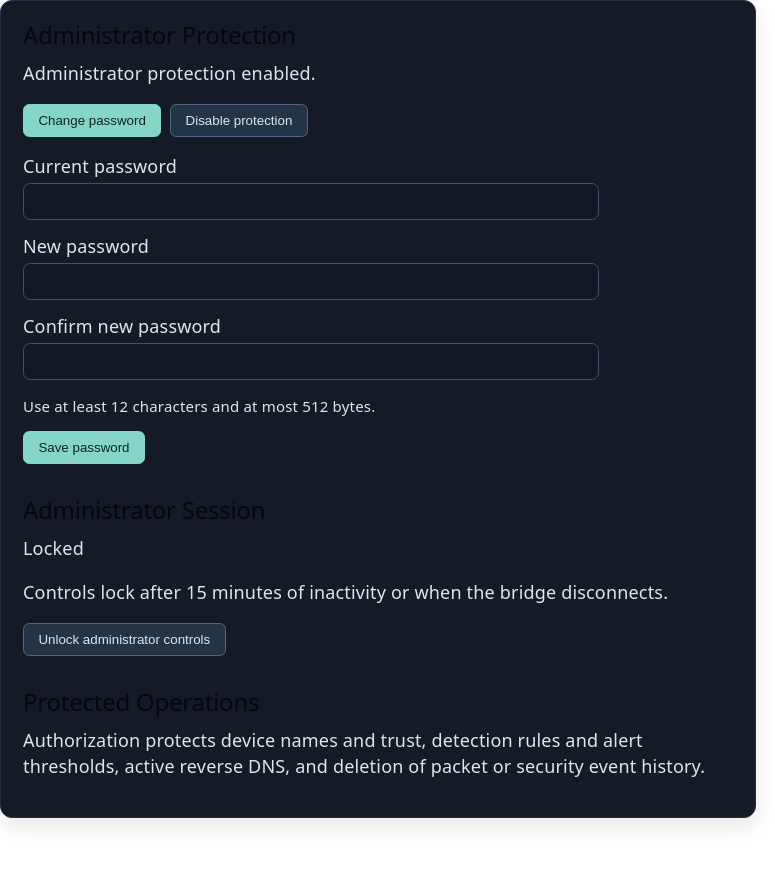
administrator controls › validates credential confirmation before submitting and requires the current password to disable
In the password field labelled "New password": coordinates (311, 282) [23,263,599,300], type "first fixture input"
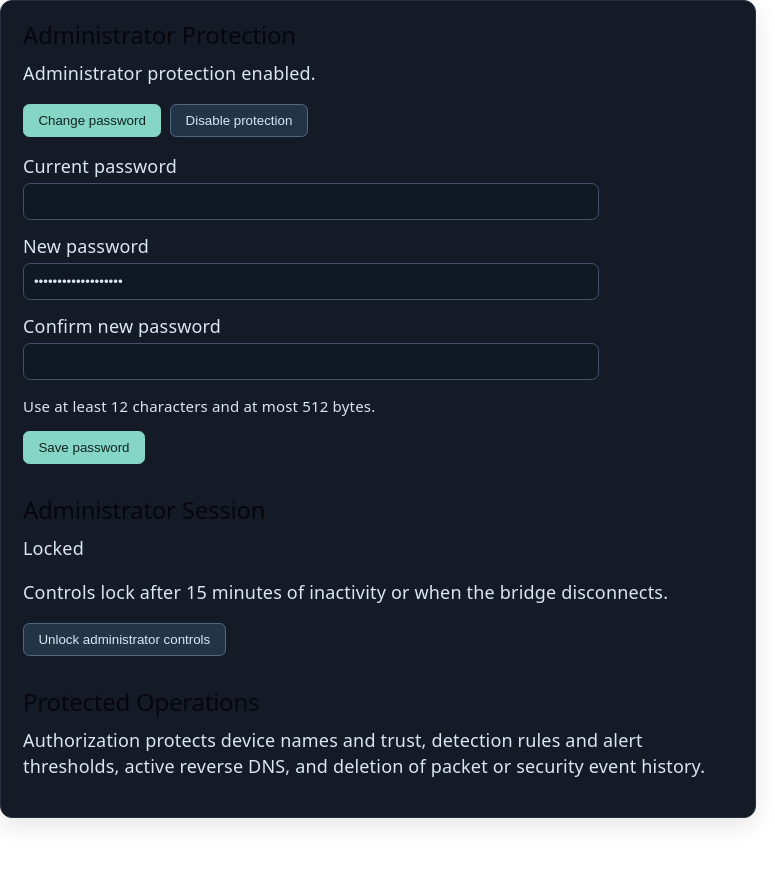
In the password field labelled "Confirm new password": coordinates (311, 362) [23,343,599,380], type "second fixture input"
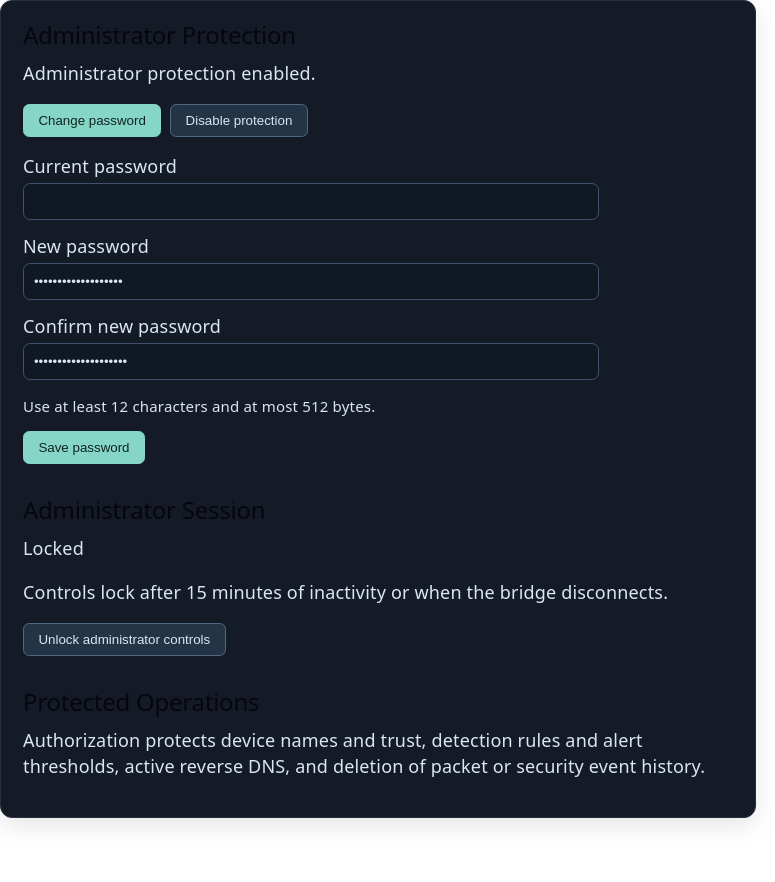
Submit the form named "Save password", box [23,153,599,464]
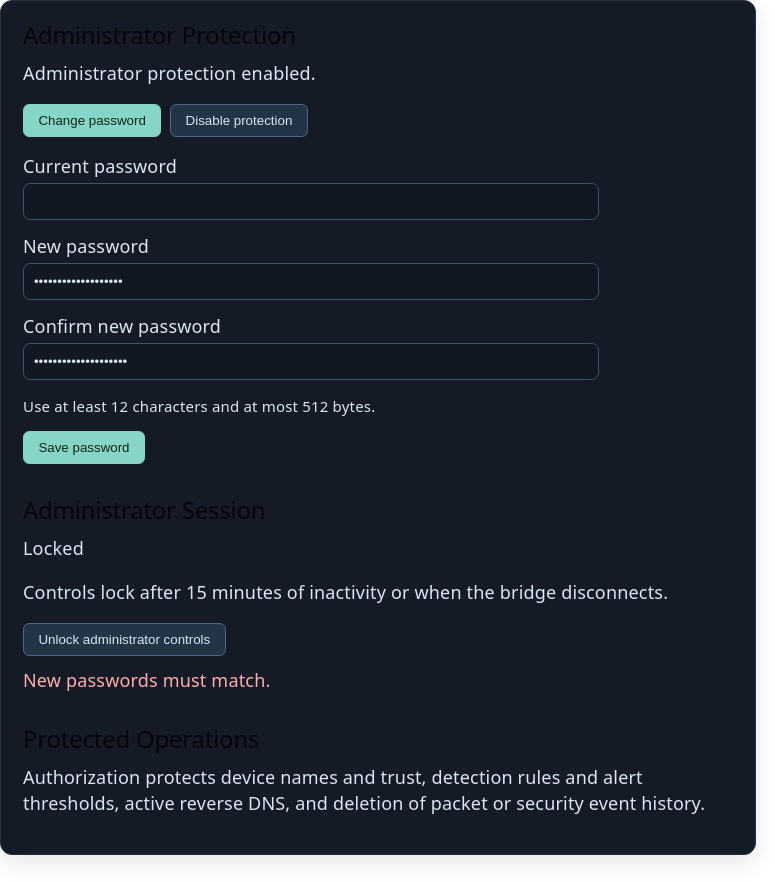
Check: the message "New passwords must match." is shown, box [23,668,270,692]
Click the button "Disable protection": coordinates (239, 121) [170,104,308,137]
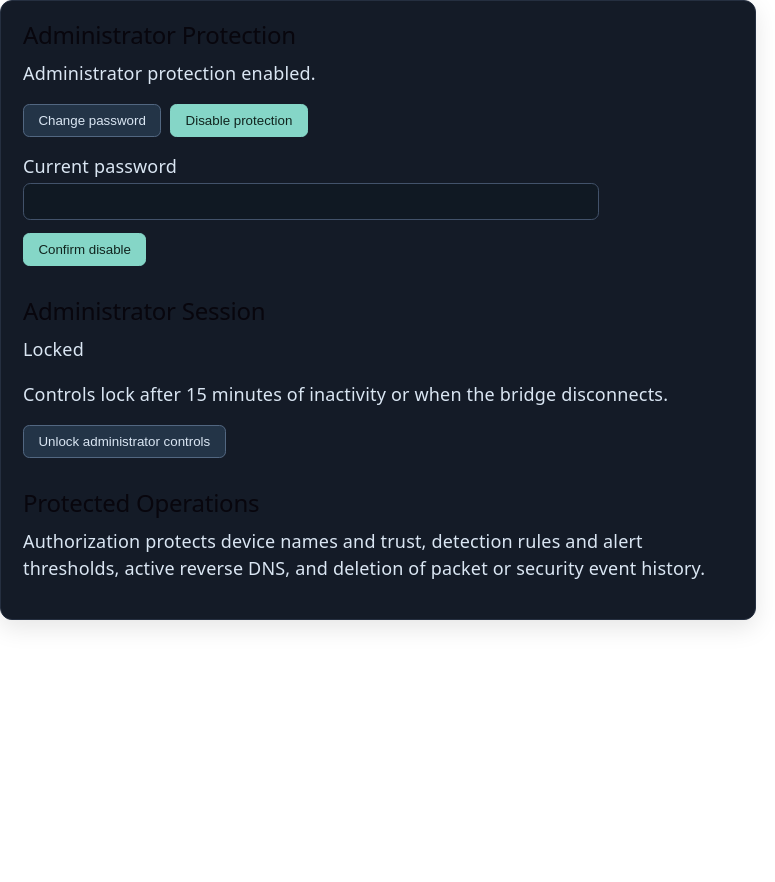
Check: the label labelled "New password" is gone
